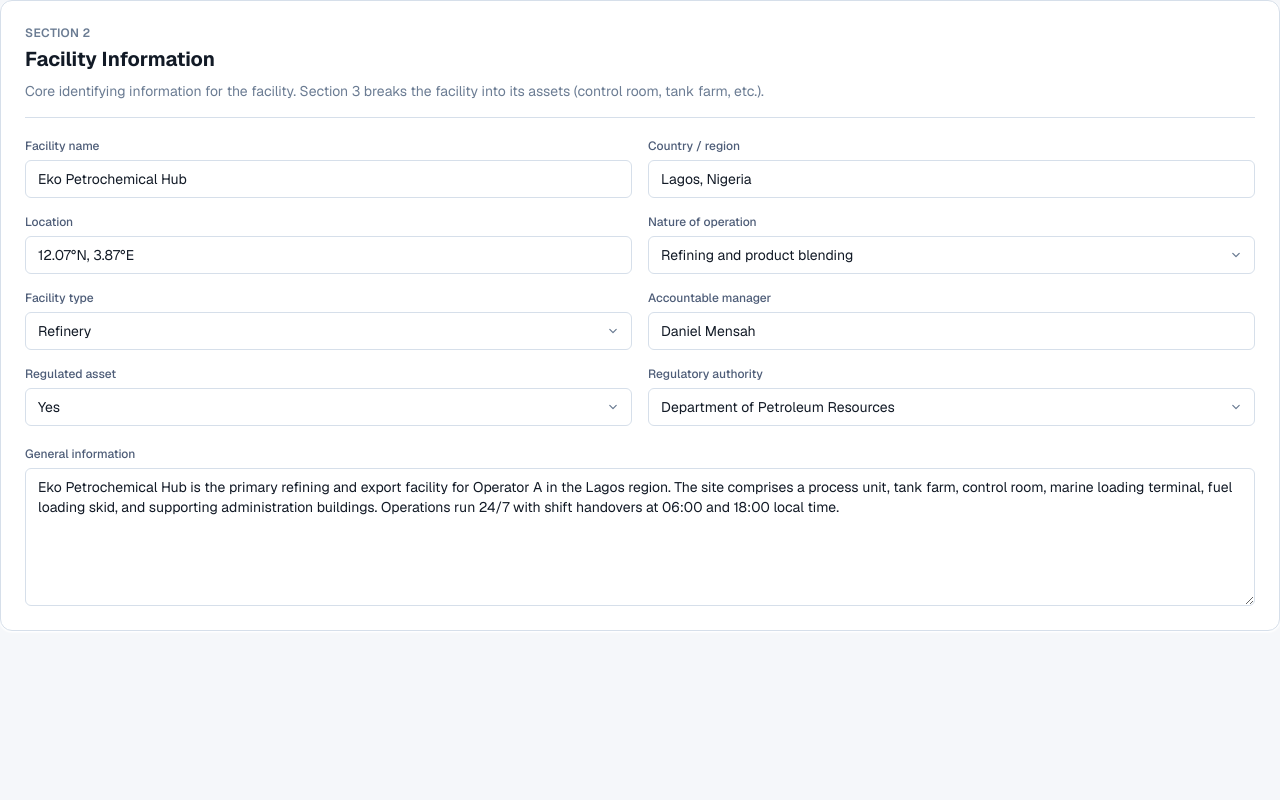
Test: prod mode (VITE_ENABLE_DEMO=false) › a 409 renders the exact reload affordance
Type " North" into the field labelled "Facility name" at (328, 179), box [25,160,632,198]
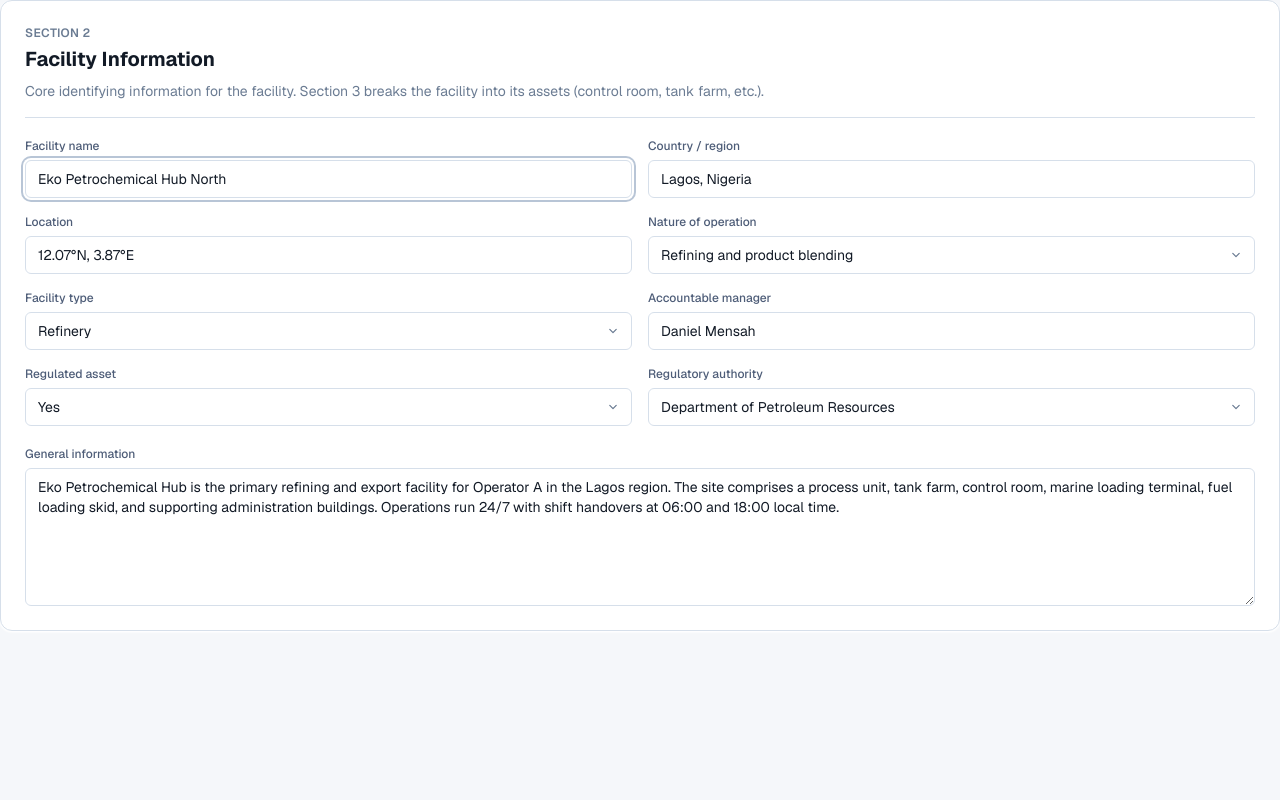
Press Tab
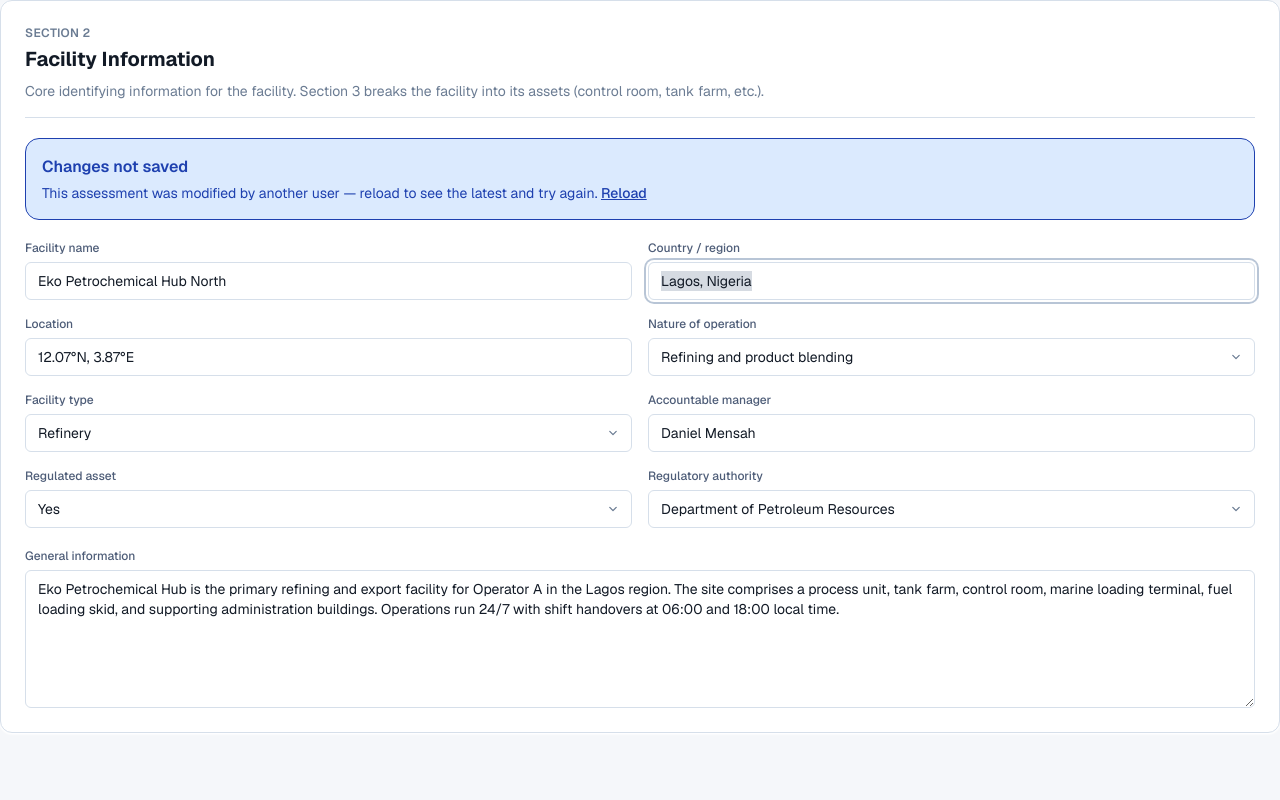
Result: the text "This assessment was modified by another user — reload to see the latest and try again." is shown at [42,184,598,202]
Result: the button "Reload" is shown at [601,183,647,203]
